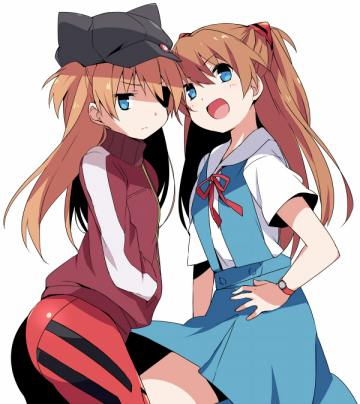asuka: (171, 20, 360, 404), (7, 3, 189, 401)
head: (50, 4, 181, 140), (170, 20, 303, 133)
